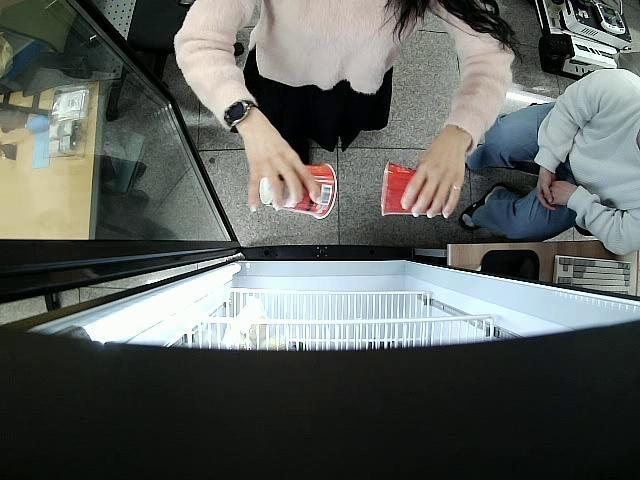02_shinRamen_S: (260, 160, 336, 222), (380, 158, 441, 218)
